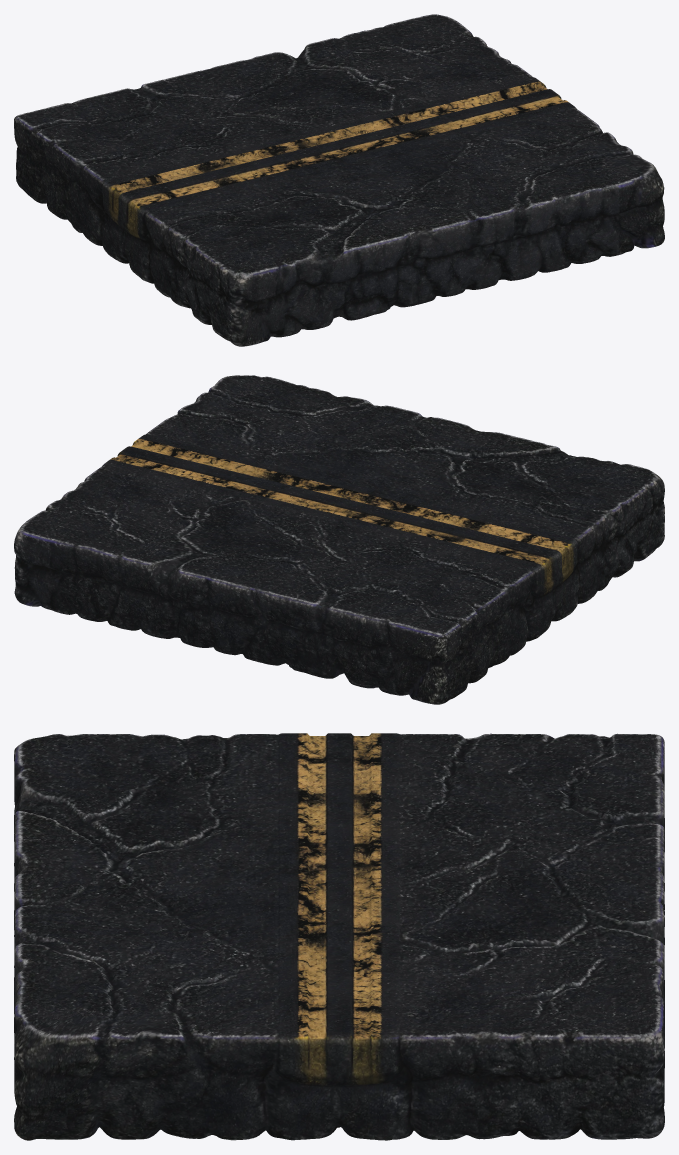
The model's file is pista_rachada_DKB.glb.
The picture shows the model from 3 angles, top to bottom: view 1: azimuth 30°, elevation 25°; view 2: azimuth 150°, elevation 25°; view 3: azimuth 270°, elevation 25°; orthographic projection. The views are drawn at different scales.
Size of the model in its own units: 1.9 by 0.3125 by 1.7.
1 material, 1 textured.
